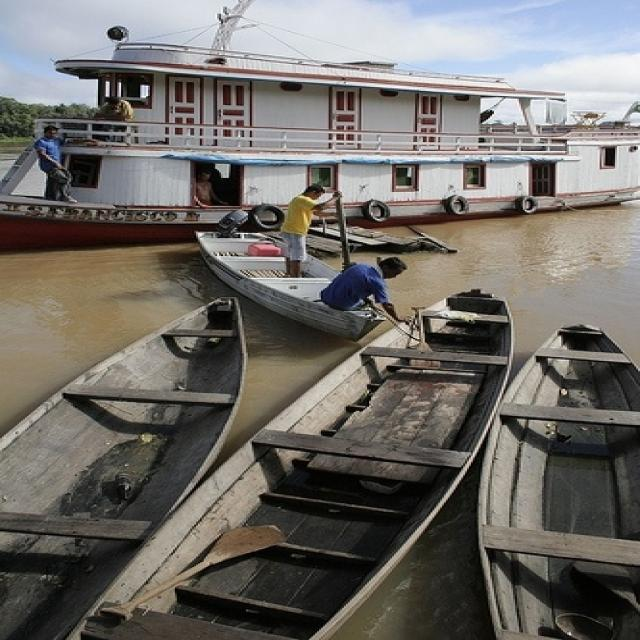boat: (3, 36, 640, 231), (197, 224, 385, 338)
